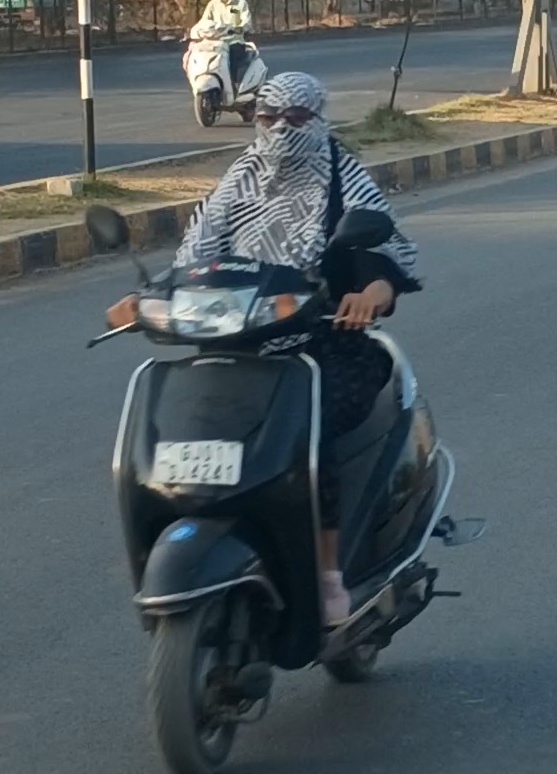BikeWithRider: (76, 69, 489, 774), (176, 0, 272, 136)
NoHelmet: (246, 70, 338, 171)
